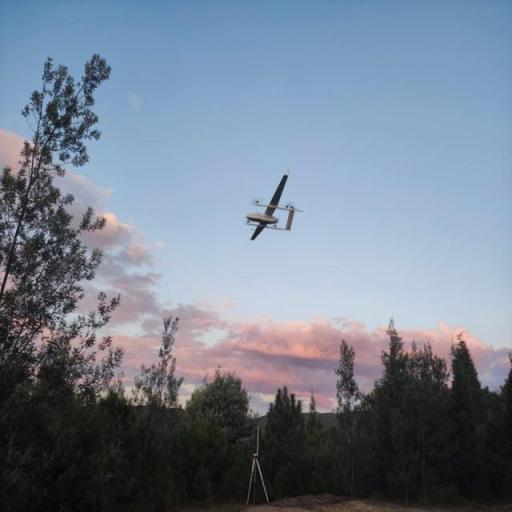uav: (238, 164, 300, 246)
